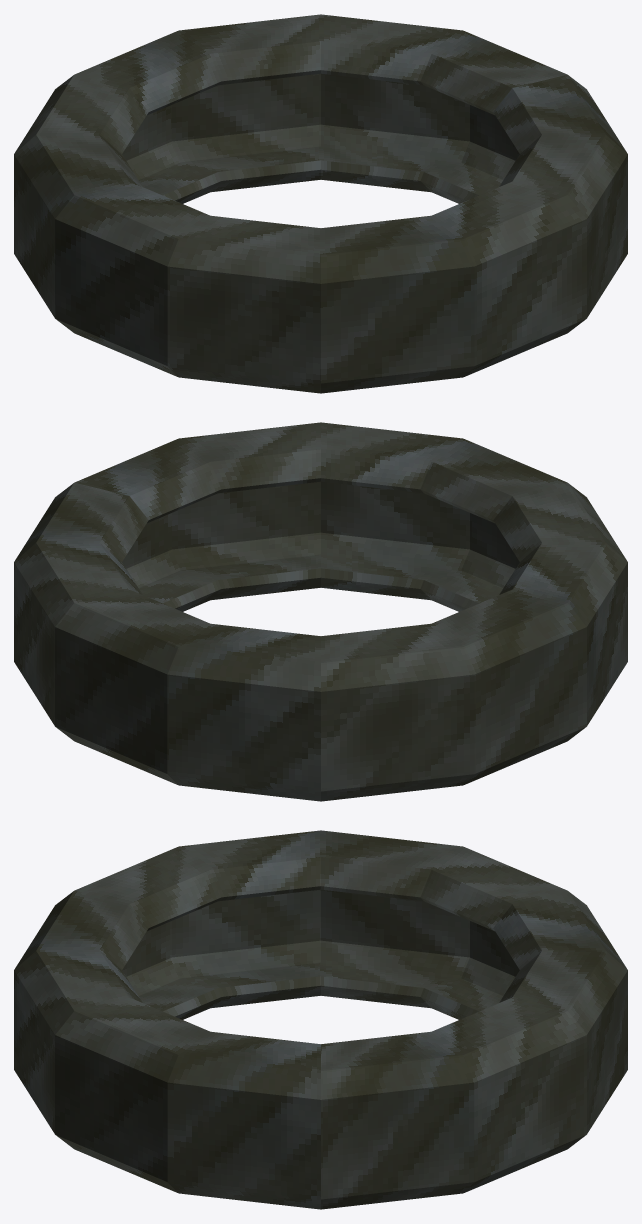
The model's file is Wheel.fbx.
3 views of the same model, one above another, from view 1: azimuth 30°, elevation 25°; view 2: azimuth 150°, elevation 25°; view 3: azimuth 270°, elevation 25° (orthographic).
Visible parts, largest first — view 1: Circle; view 2: Circle; view 3: Circle.
Part boxes in pixels (bbox=[...]): Circle: bbox=[14, 14, 627, 393]; Circle: bbox=[14, 422, 627, 801]; Circle: bbox=[14, 830, 627, 1209].
Size of the model in its own units: 309 by 76.79 by 309.
